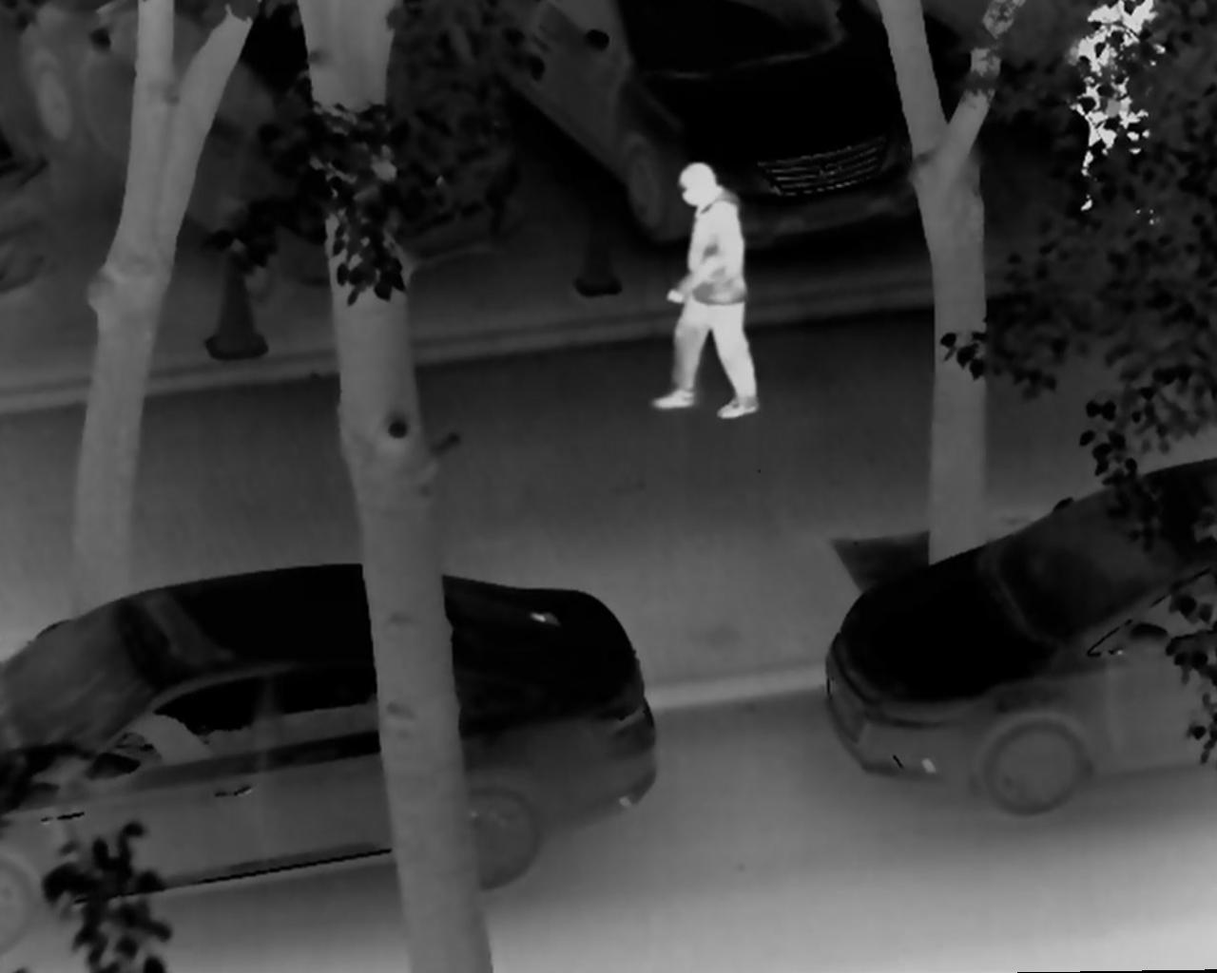person: (647, 161, 771, 421)
